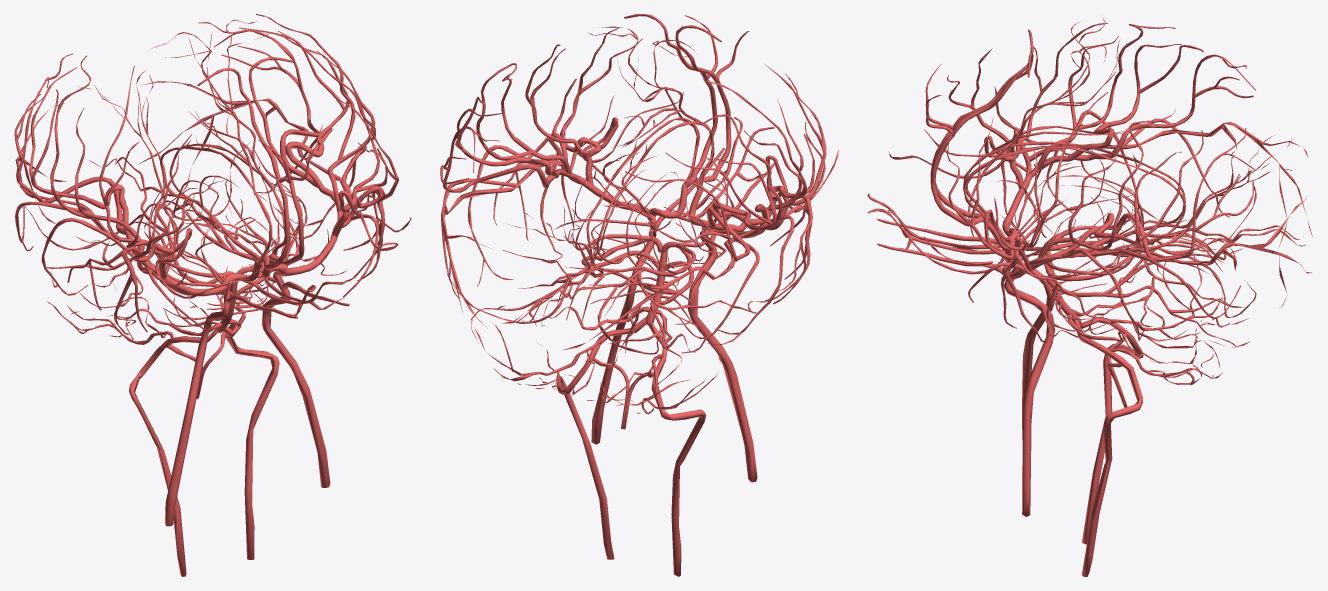
The model's file is vessels.lod2.glb.
3 views of the same model, side by side, from view 1: azimuth 30°, elevation 25°; view 2: azimuth 150°, elevation 25°; view 3: azimuth 270°, elevation 25° (orthographic). The views are drawn at different scales.
Visible parts, largest first — view 1: artery-of-central-sulcus, internal-carotid-artery-r, vertebral-artery-l, internal-carotid-artery-l, vertebral-artery-r, temporo-occipital-branch-of-middle-cerebral-artery-l, posterior-parietal-artery-l, posterior-parietal-artery-r, artery-of-precentral-sulcus-r, prefrontal-artery-r, insular-part-of-middle-cerebral-artery-l, anterior-temporal-artery-r (+20 smaller); view 2: internal-carotid-artery-r, artery-of-central-sulcus, vertebral-artery-l, vertebral-artery-r, internal-carotid-artery-l, temporo-occipital-branch-of-middle-cerebral-artery-r, temporo-occipital-branch-of-middle-cerebral-artery-l, posterior-parietal-artery-r, posterior-parietal-artery-l, posterior-inferior-cerebellar-artery-l, artery-of-precentral-sulcus-l, prefrontal-artery-l (+21 smaller); view 3: artery-of-central-sulcus, internal-carotid-artery-l, vertebral-artery-l, vertebral-artery-r, temporo-occipital-branch-of-middle-cerebral-artery-l, temporo-occipital-branch-of-middle-cerebral-artery-r, posterior-parietal-artery-l, anterior-temporal-artery-l, internal-carotid-artery-r, posterior-parietal-artery-r, artery-of-precentral-sulcus-l, posterior-inferior-cerebellar-artery-r (+20 smaller).
Part boxes in pixels (x1,y1,x2,y2): artery-of-central-sulcus: [50, 14, 375, 256]; internal-carotid-artery-r: [165, 285, 230, 526]; vertebral-artery-l: [223, 324, 279, 559]; internal-carotid-artery-l: [262, 270, 330, 487]; vertebral-artery-r: [129, 329, 218, 576]; temporo-occipital-branch-of-middle-cerebral-artery-l: [137, 81, 351, 196]; posterior-parietal-artery-l: [198, 22, 319, 187]; posterior-parietal-artery-r: [17, 53, 125, 234]; artery-of-precentral-sulcus-r: [99, 66, 161, 255]; prefrontal-artery-r: [133, 134, 215, 262]; insular-part-of-middle-cerebral-artery-l: [285, 141, 349, 236]; anterior-temporal-artery-r: [67, 249, 147, 334]; internal-carotid-artery-r: [687, 228, 757, 482]; artery-of-central-sulcus: [476, 63, 802, 224]; vertebral-artery-l: [556, 316, 646, 559]; vertebral-artery-r: [648, 323, 706, 576]; internal-carotid-artery-l: [591, 214, 656, 444]; temporo-occipital-branch-of-middle-cerebral-artery-r: [563, 215, 781, 367]; temporo-occipital-branch-of-middle-cerebral-artery-l: [441, 159, 563, 332]; posterior-parietal-artery-r: [625, 171, 750, 261]; posterior-parietal-artery-l: [443, 126, 557, 192]; posterior-inferior-cerebellar-artery-l: [474, 305, 600, 394]; artery-of-precentral-sulcus-l: [525, 44, 587, 154]; prefrontal-artery-l: [560, 28, 642, 156]; artery-of-central-sulcus: [1037, 24, 1175, 257]; internal-carotid-artery-l: [1004, 261, 1055, 516]; vertebral-artery-l: [1073, 320, 1142, 576]; vertebral-artery-r: [1080, 317, 1143, 544]; temporo-occipital-branch-of-middle-cerebral-artery-l: [1029, 196, 1311, 307]; temporo-occipital-branch-of-middle-cerebral-artery-r: [1029, 122, 1312, 249]; posterior-parietal-artery-l: [1073, 128, 1256, 261]; anterior-temporal-artery-l: [1001, 252, 1103, 342]; internal-carotid-artery-r: [1004, 231, 1054, 439]; posterior-parietal-artery-r: [1073, 54, 1255, 160]; artery-of-precentral-sulcus-l: [994, 92, 1108, 250]; posterior-inferior-cerebellar-artery-r: [1109, 256, 1248, 348].
Size of the model in its own units: 0.1444 by 0.2318 by 0.1786.
